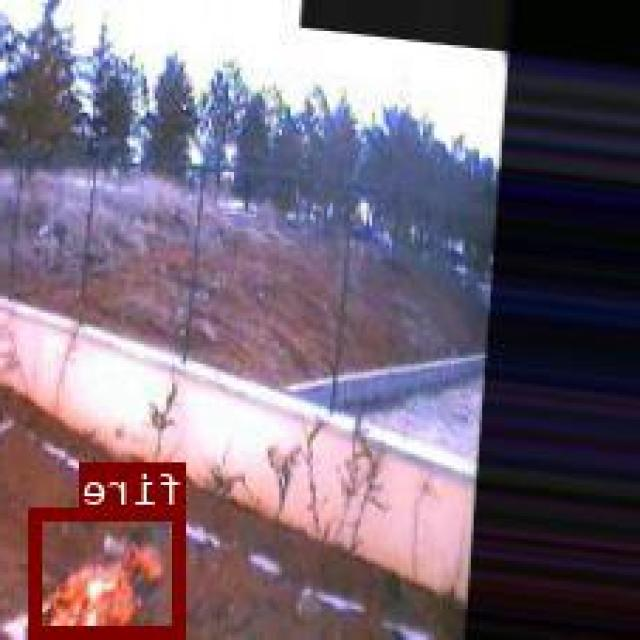fire: (34, 505, 187, 634)
